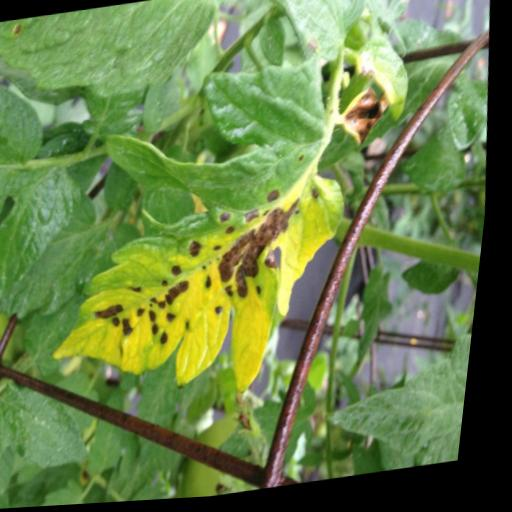Bacterial Spot: (29, 43, 377, 417)
